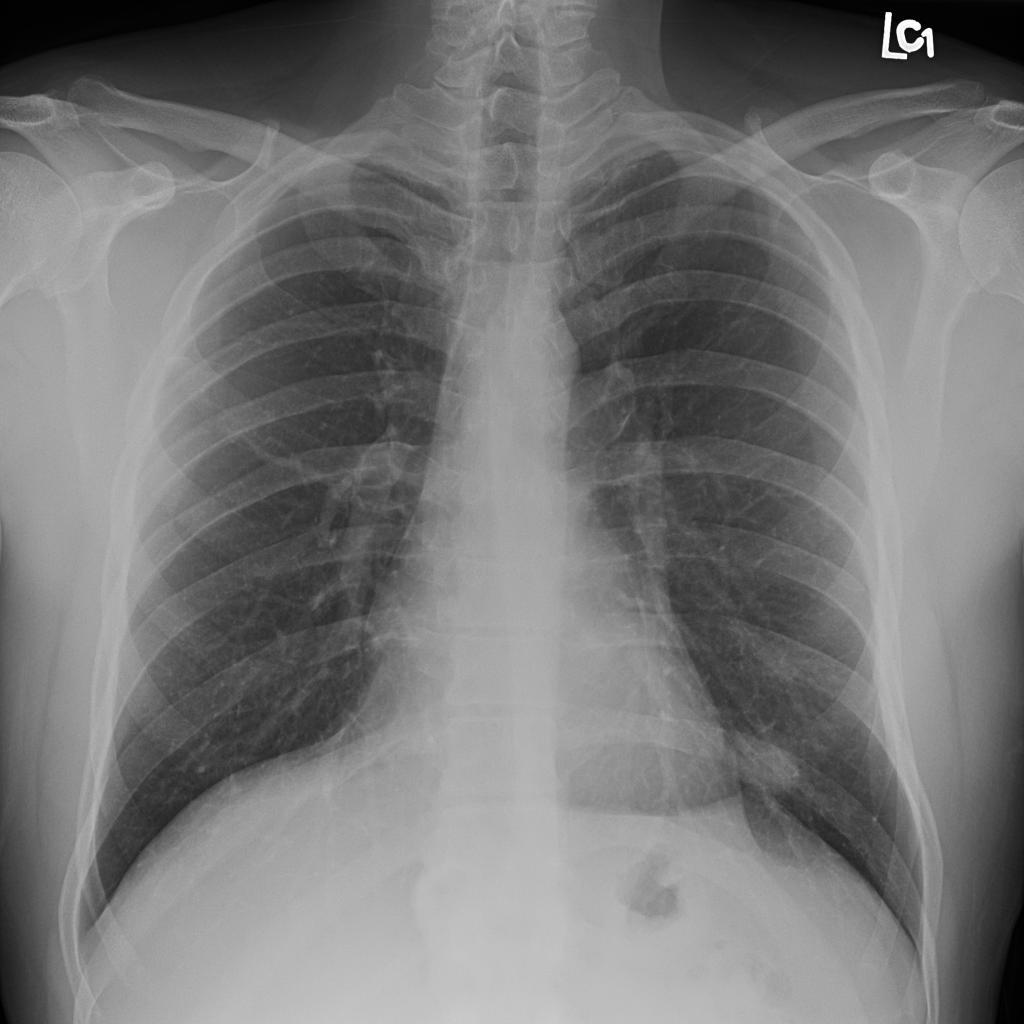Nodule: (377, 380, 405, 404)
